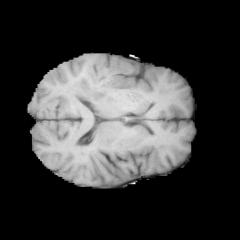glioma: (68, 56, 136, 103)
